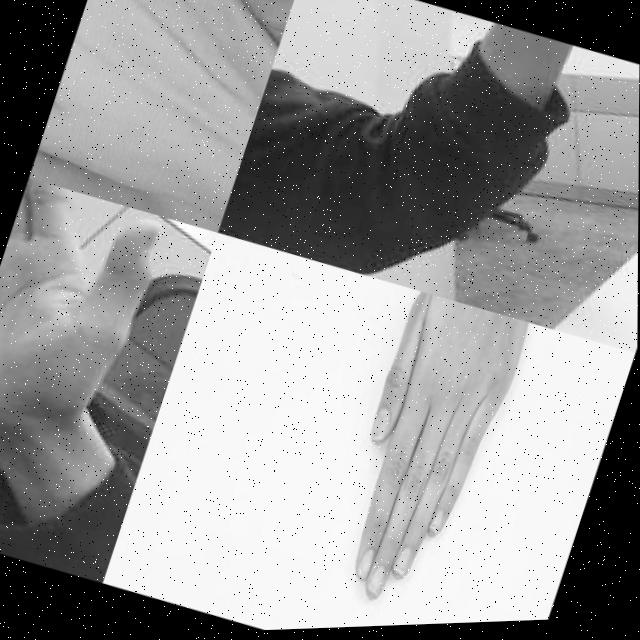hand: (319, 289, 533, 622), (33, 0, 304, 224), (0, 173, 176, 466), (381, 0, 609, 185)
